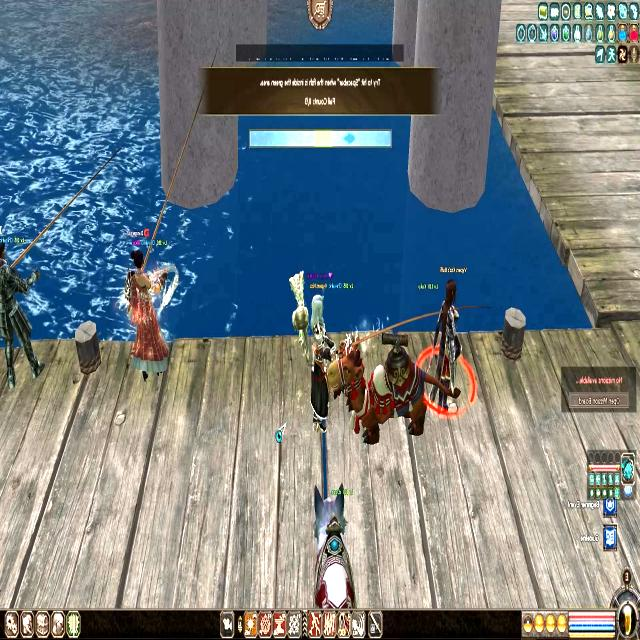fishes: (344, 131, 356, 145)
